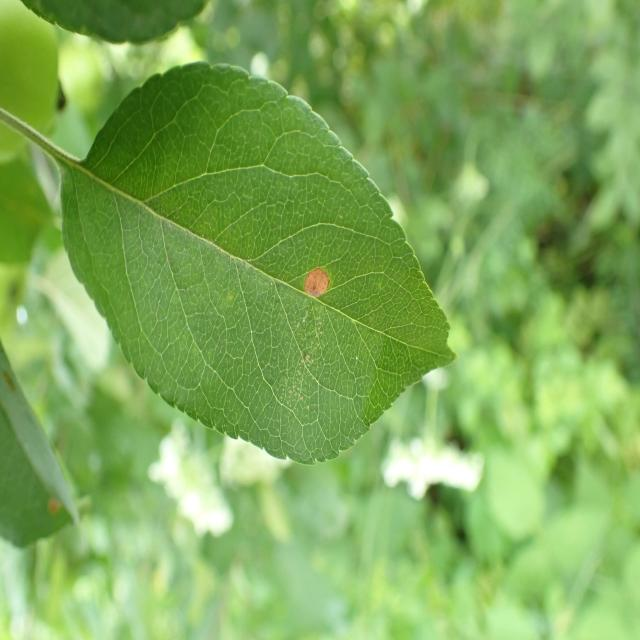Black Rot: (288, 240, 339, 316)
